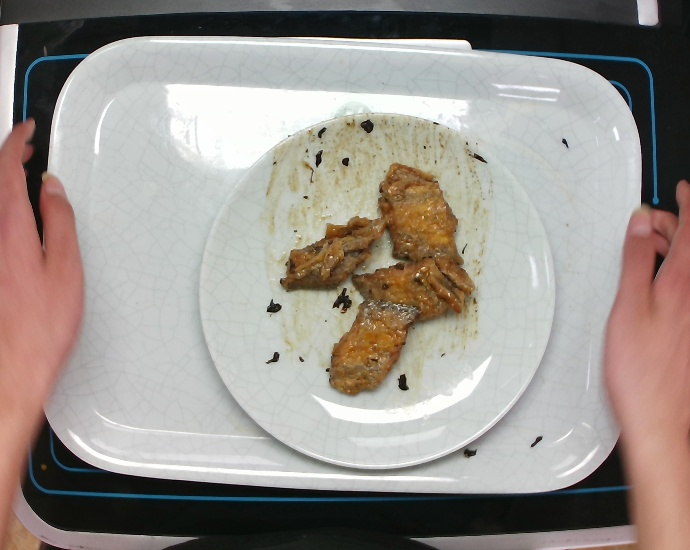JYsf-Da_Yuan_Pan: (195, 109, 559, 473)
